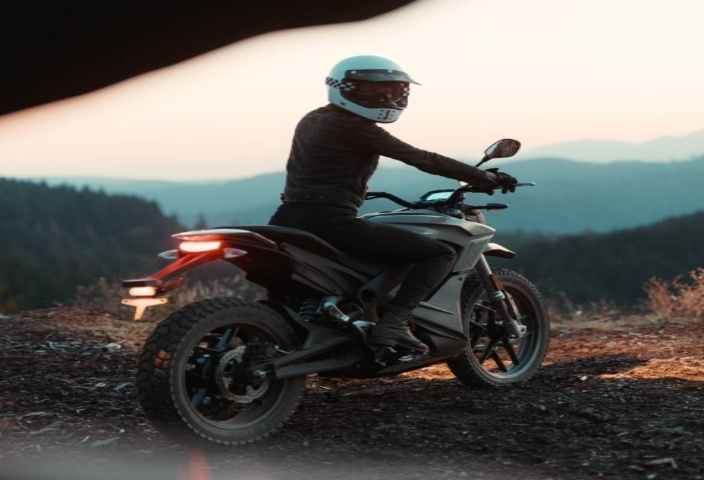motorcycle: (136, 39, 558, 435)
